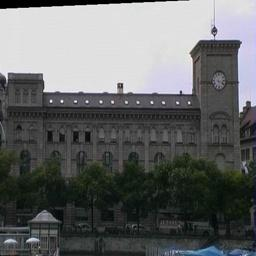building: (2, 33, 244, 227)
